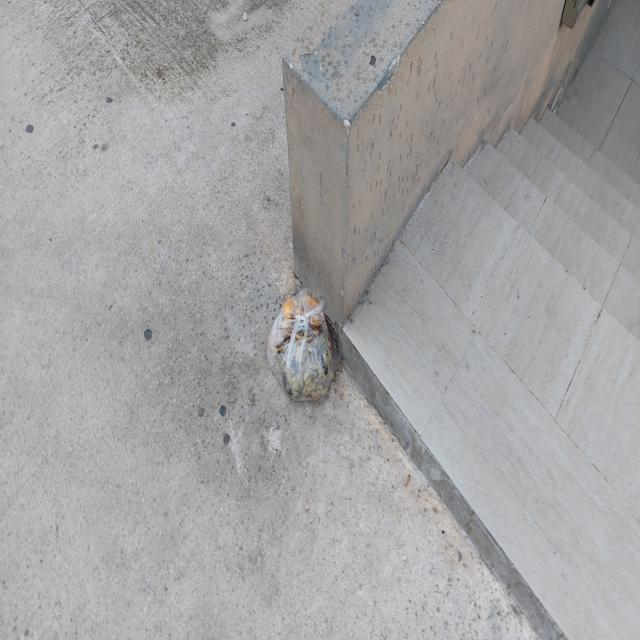Organic Waste -White Bag-: (268, 287, 336, 403)
